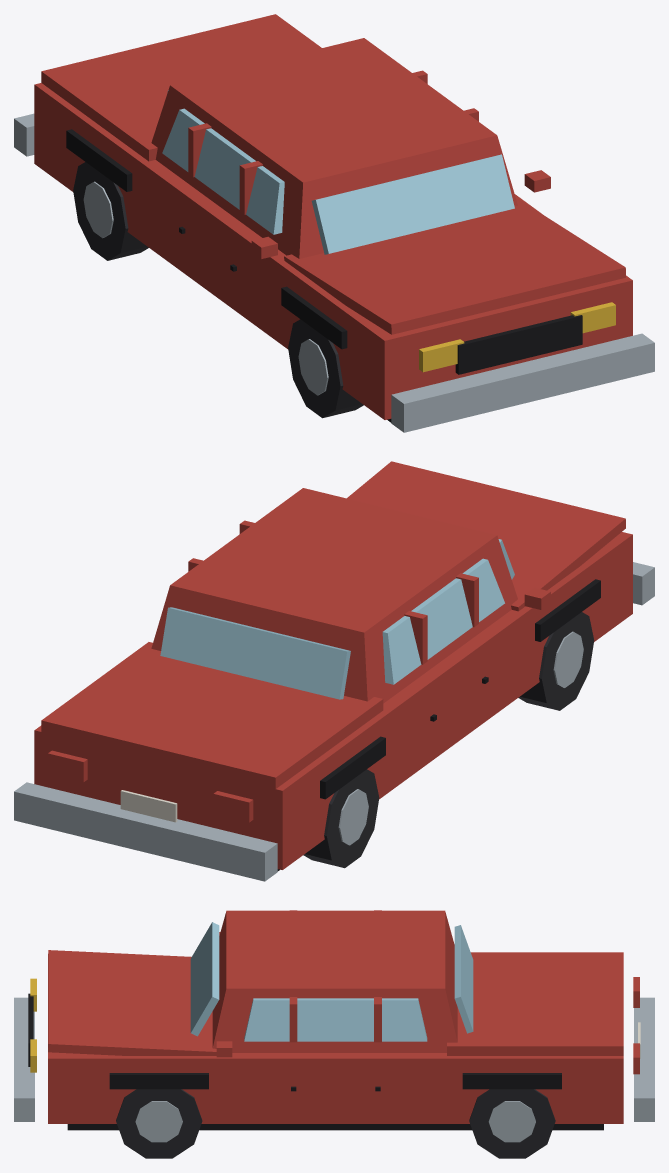
File: GV_Sedan_Red_01.glb
3 views of the same model, one above another, from view 1: azimuth 30°, elevation 25°; view 2: azimuth 150°, elevation 25°; view 3: azimuth 270°, elevation 25° (orthographic). The views are drawn at different scales.
Parts seen in each view (by area): view 1: GV_Sedan_Red_01; view 2: GV_Sedan_Red_01; view 3: GV_Sedan_Red_01.
Boxes of the visible parts, <box> form: GV_Sedan_Red_01: <box>14,14,654,432</box>; GV_Sedan_Red_01: <box>14,461,654,881</box>; GV_Sedan_Red_01: <box>14,910,654,1158</box>.
Bounding box in the file's own units: 2.1 × 1.33 × 4.9.
Materials: 1 (1 with a texture image).
